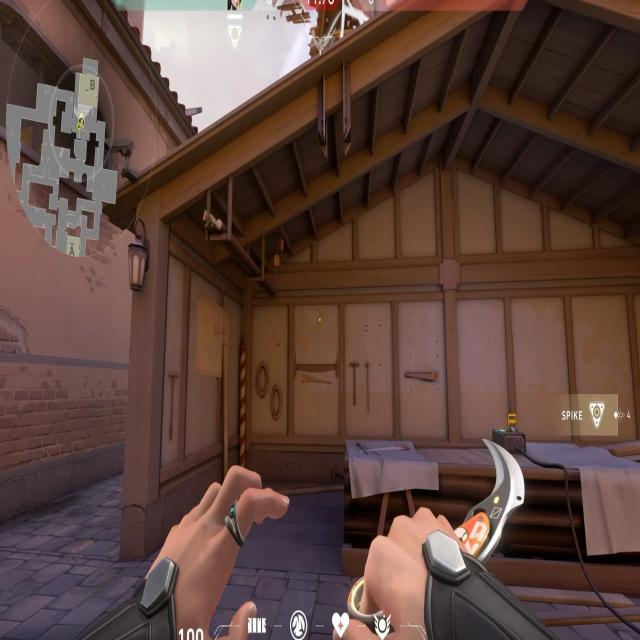B_Garage_Left: (123, 195, 390, 555)
